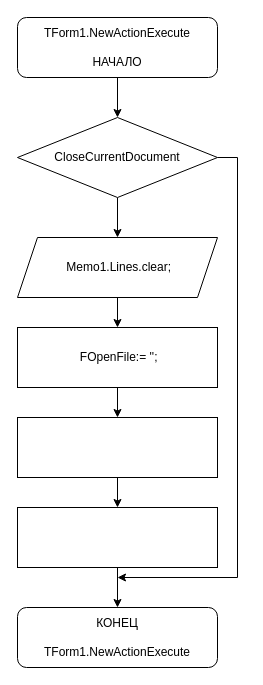
Some shapes in this 263 by 685 pixel diagram are drawn without their labels. Each missing label, with the centre of its shape:
Form1.Caption:= 'Безымянный - Блокнот';: the point at 117,447
Memo1.Modified:= False;: the point at 117,537
